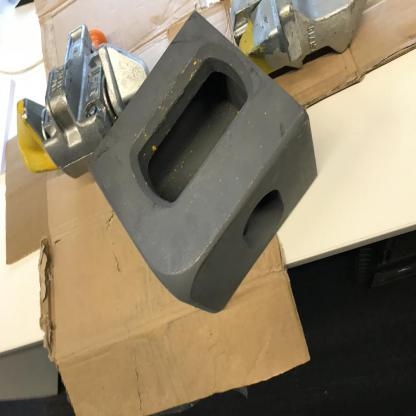CornerCasting: (91, 15, 317, 316)
Twistlock: (16, 26, 152, 173), (237, 0, 382, 65)
